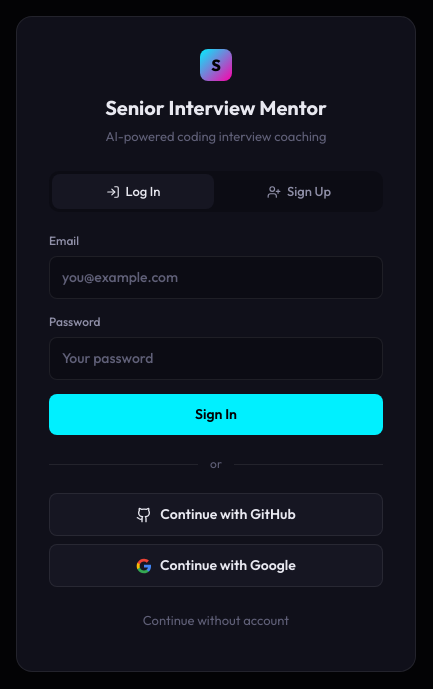
Test: AuthPage › tab switching › Sign Up tab shows "Min 6 characters" password placeholder
The image size is (433, 689).
Click the button "Sign Up": (299, 192) [218,174,380,209]
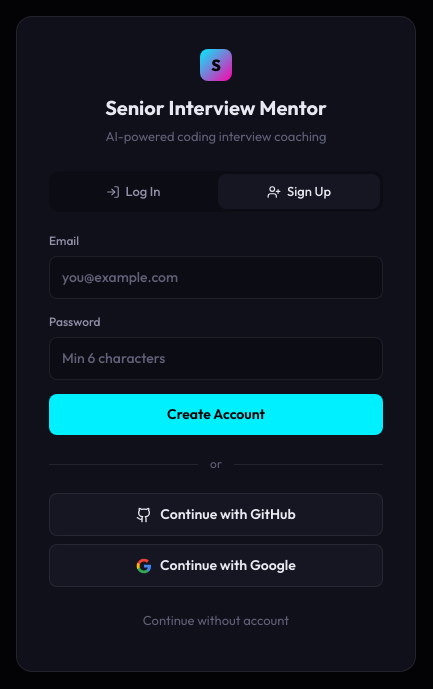
Result: the password field with placeholder "Min 6 characters" is shown at [49,337,383,380]
